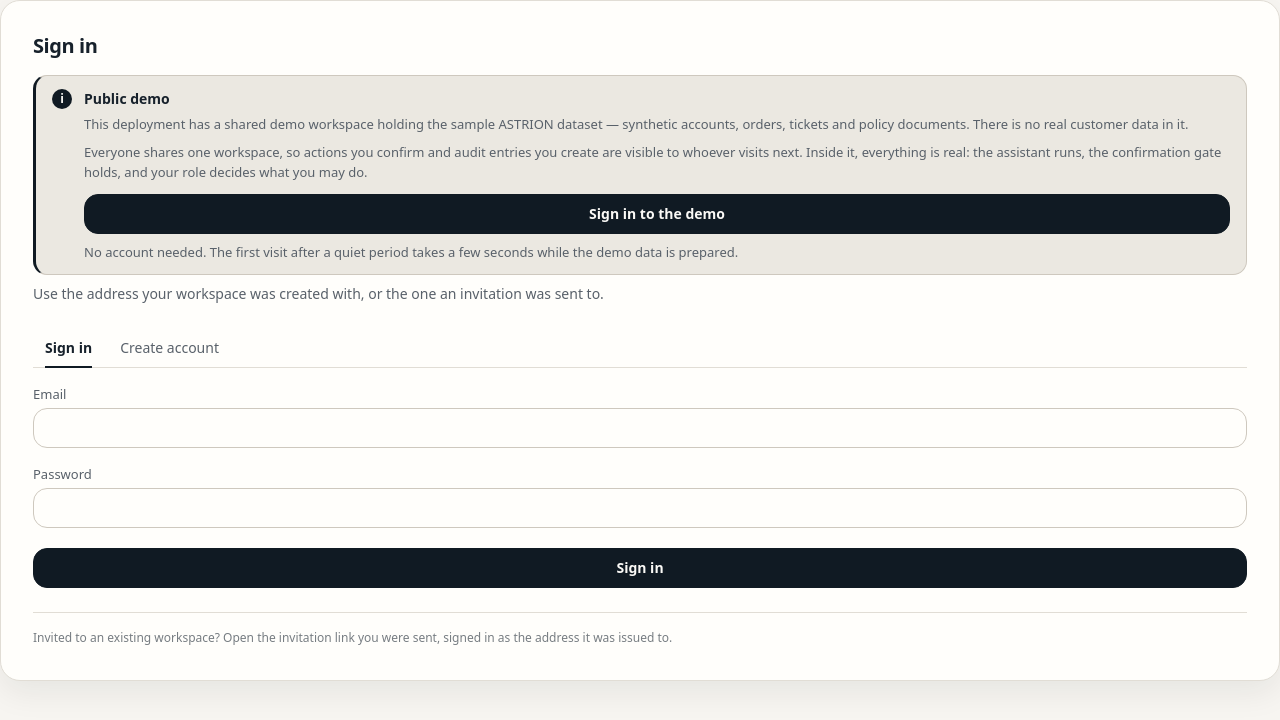
the public demo panel › stays out of the way of someone creating a real account
Click the tab "Create account". click: [170, 348]
box: 108,329 -> 231,367
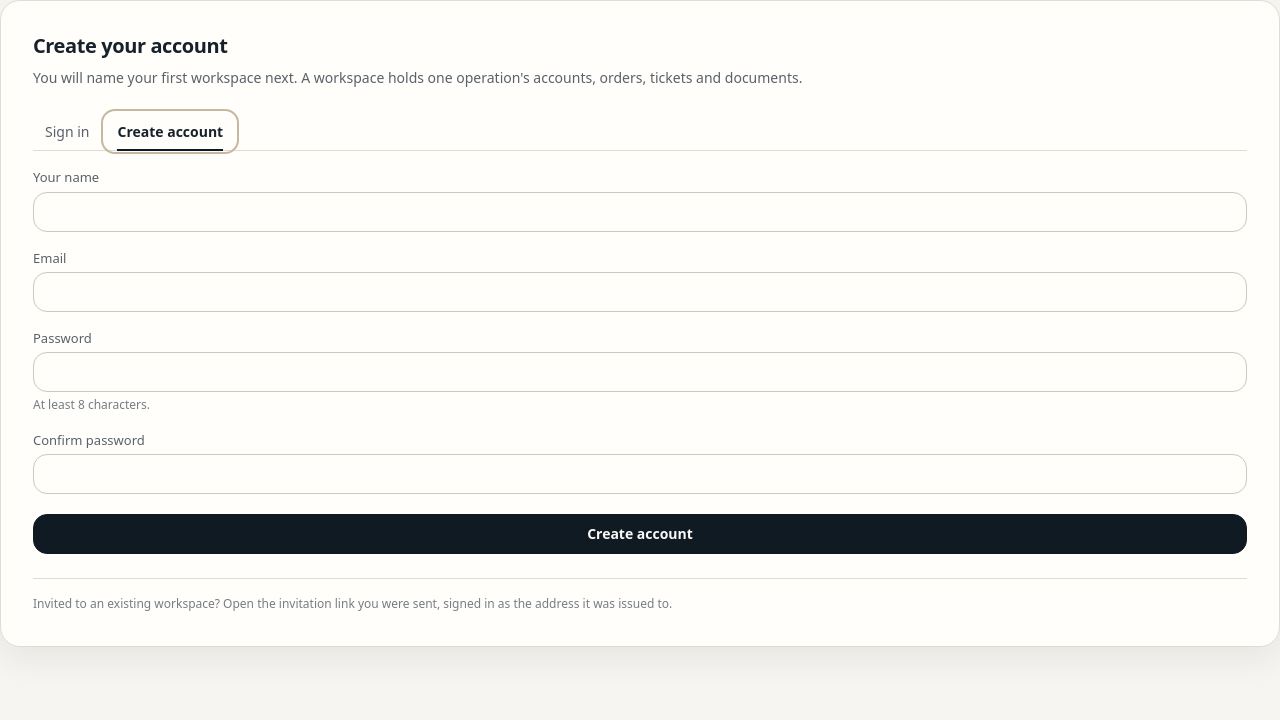
Expected: the text "Public demo" is gone
